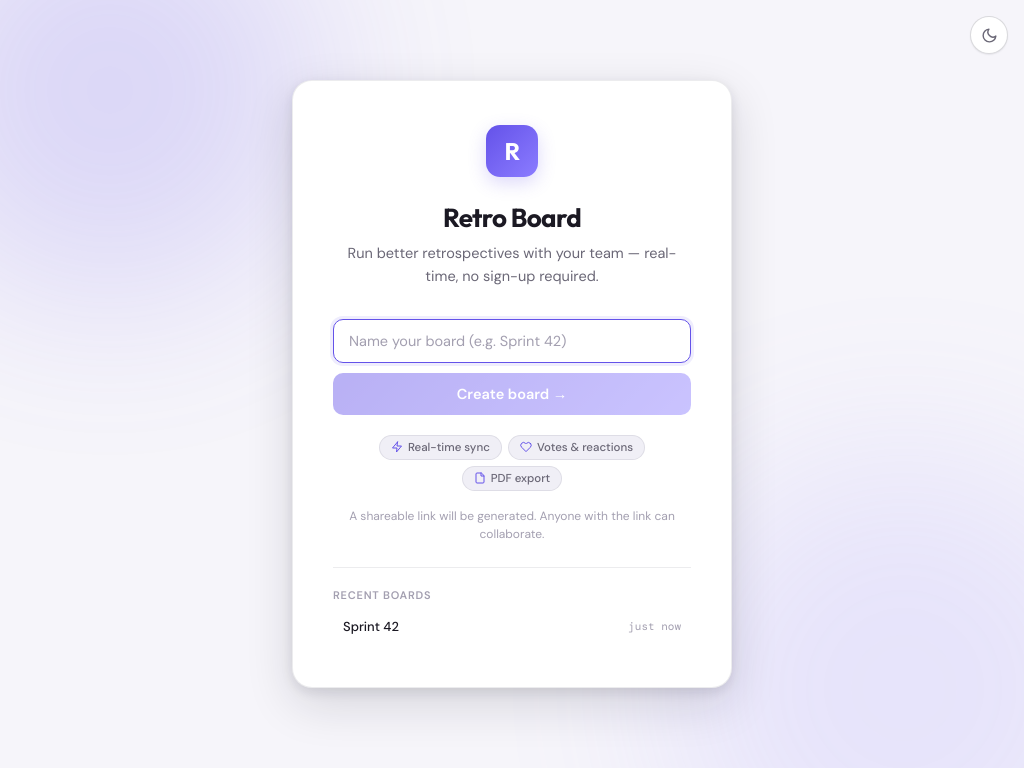
Test: App › blocks board creation when rate limit is exceeded
Step 1. Type "Sprint 42" into the field with placeholder "Name your board (e.g. Sprint 42)" → point(512, 341), box x1=333 y1=319 x2=691 y2=363
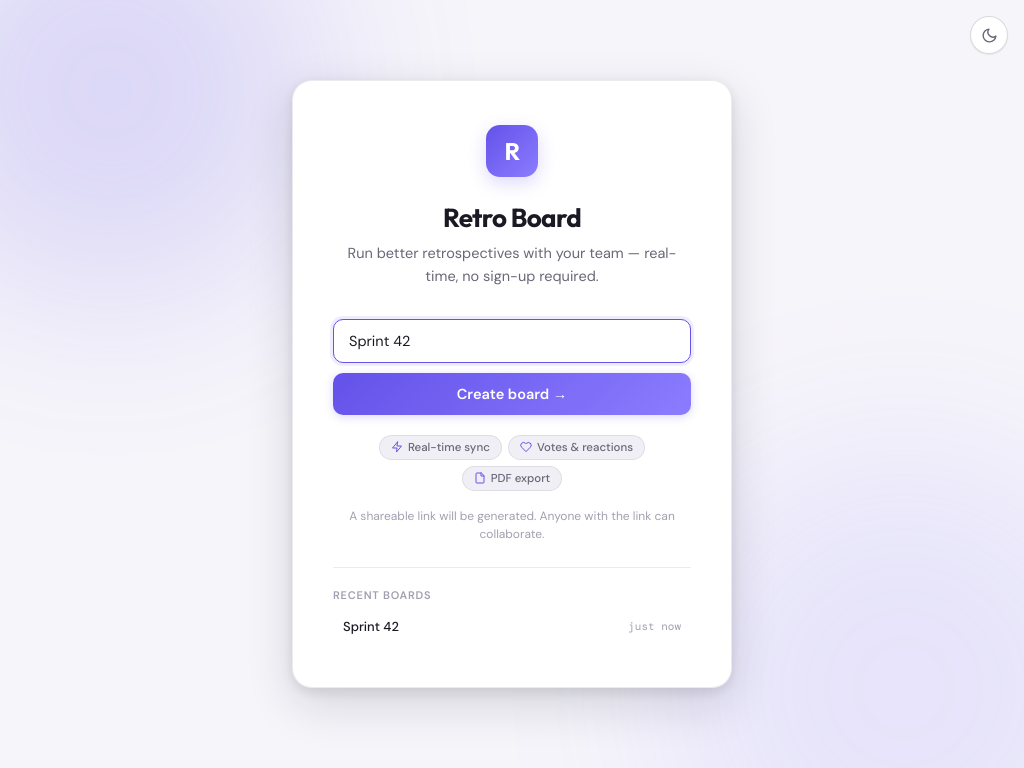
Step 2. Click the button "Create board →" → point(512, 394), box x1=333 y1=373 x2=691 y2=415
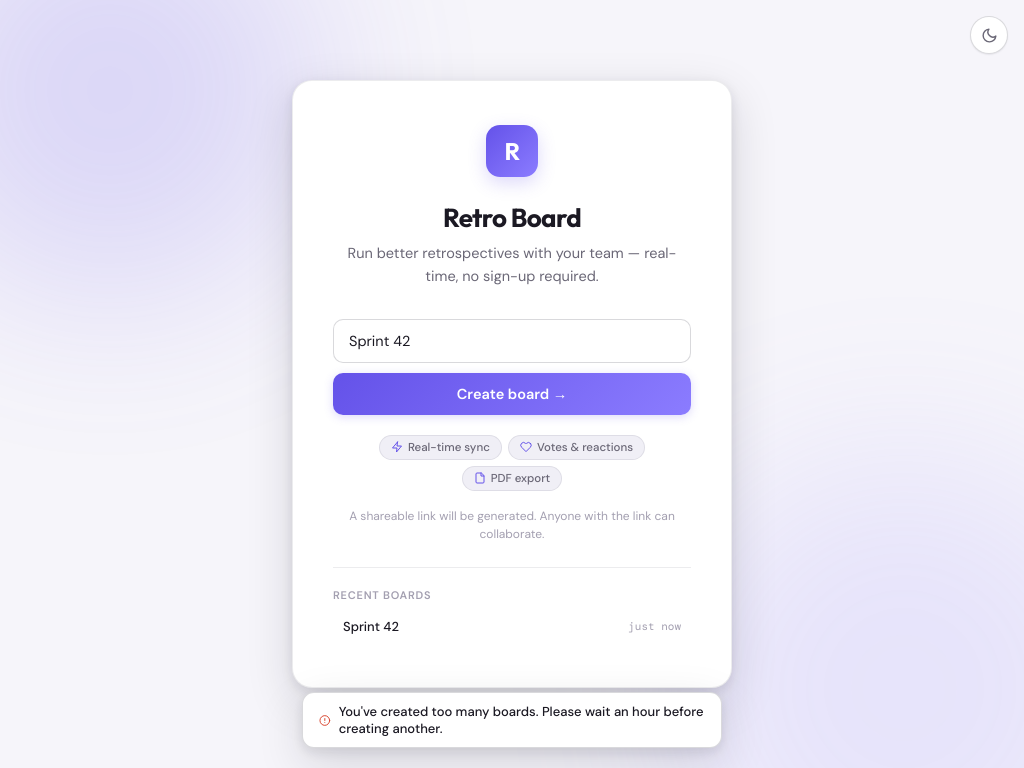
Expected: the text "too many boards" is shown, x1=339 y1=703 x2=704 y2=737
